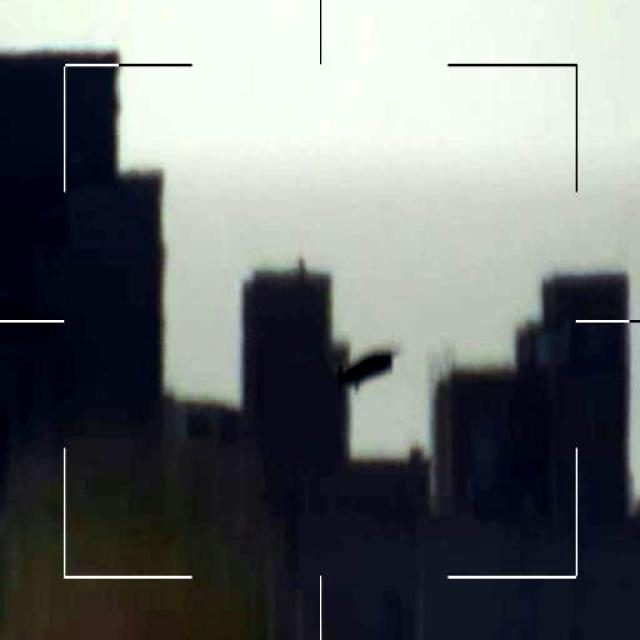bird: (336, 340, 399, 392)
